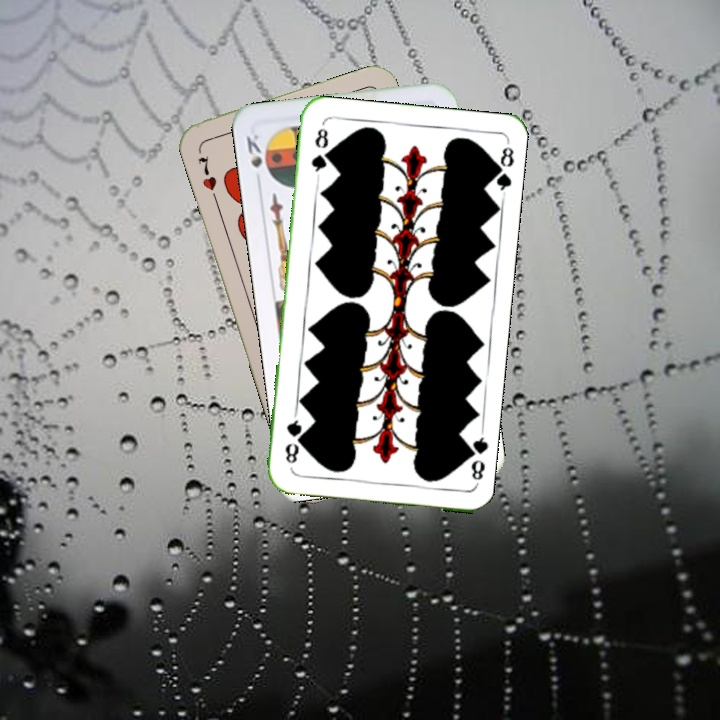G8: (461, 428, 490, 487), (307, 124, 331, 180)
H7: (194, 152, 220, 204)
SK: (242, 129, 265, 187)
